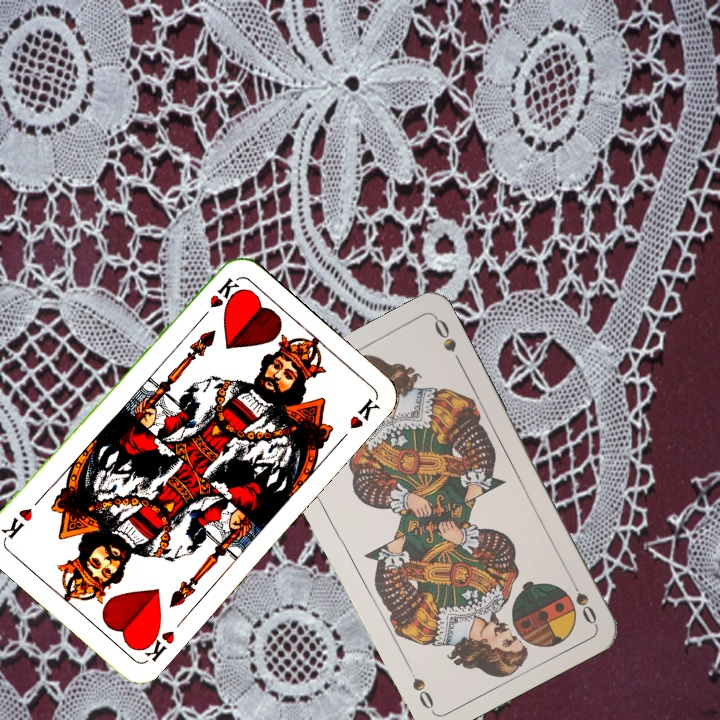HK: (195, 273, 243, 324), (135, 621, 178, 665)
SO: (564, 572, 600, 628)
